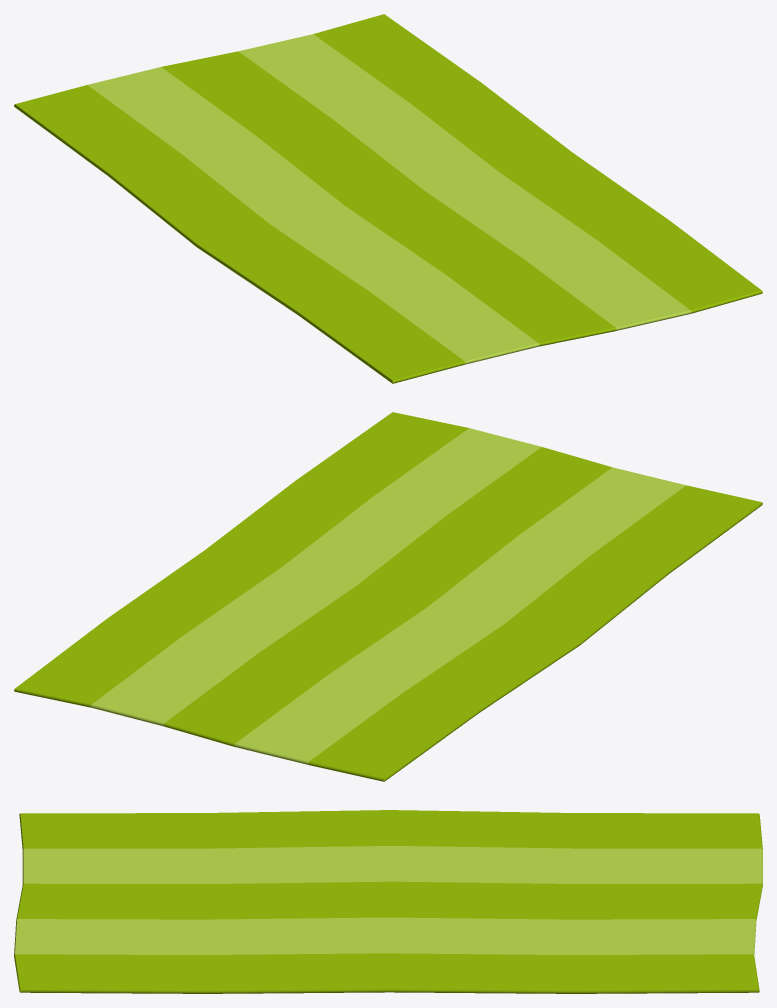
The model's file is BeachTowel.fbx.
3 views of the same model, one above another, from view 1: azimuth 30°, elevation 25°; view 2: azimuth 150°, elevation 25°; view 3: azimuth 270°, elevation 25° (orthographic). The views are drawn at different scales.
Parts seen in each view (by area): view 1: BeachTowel; view 2: BeachTowel; view 3: BeachTowel.
Boxes of the visible parts, bbox=[...] form: BeachTowel: bbox=[14, 14, 762, 383]; BeachTowel: bbox=[14, 412, 762, 781]; BeachTowel: bbox=[14, 810, 762, 993].
Bounding box in the file's own units: 87.11 × 0.7368 × 152.
